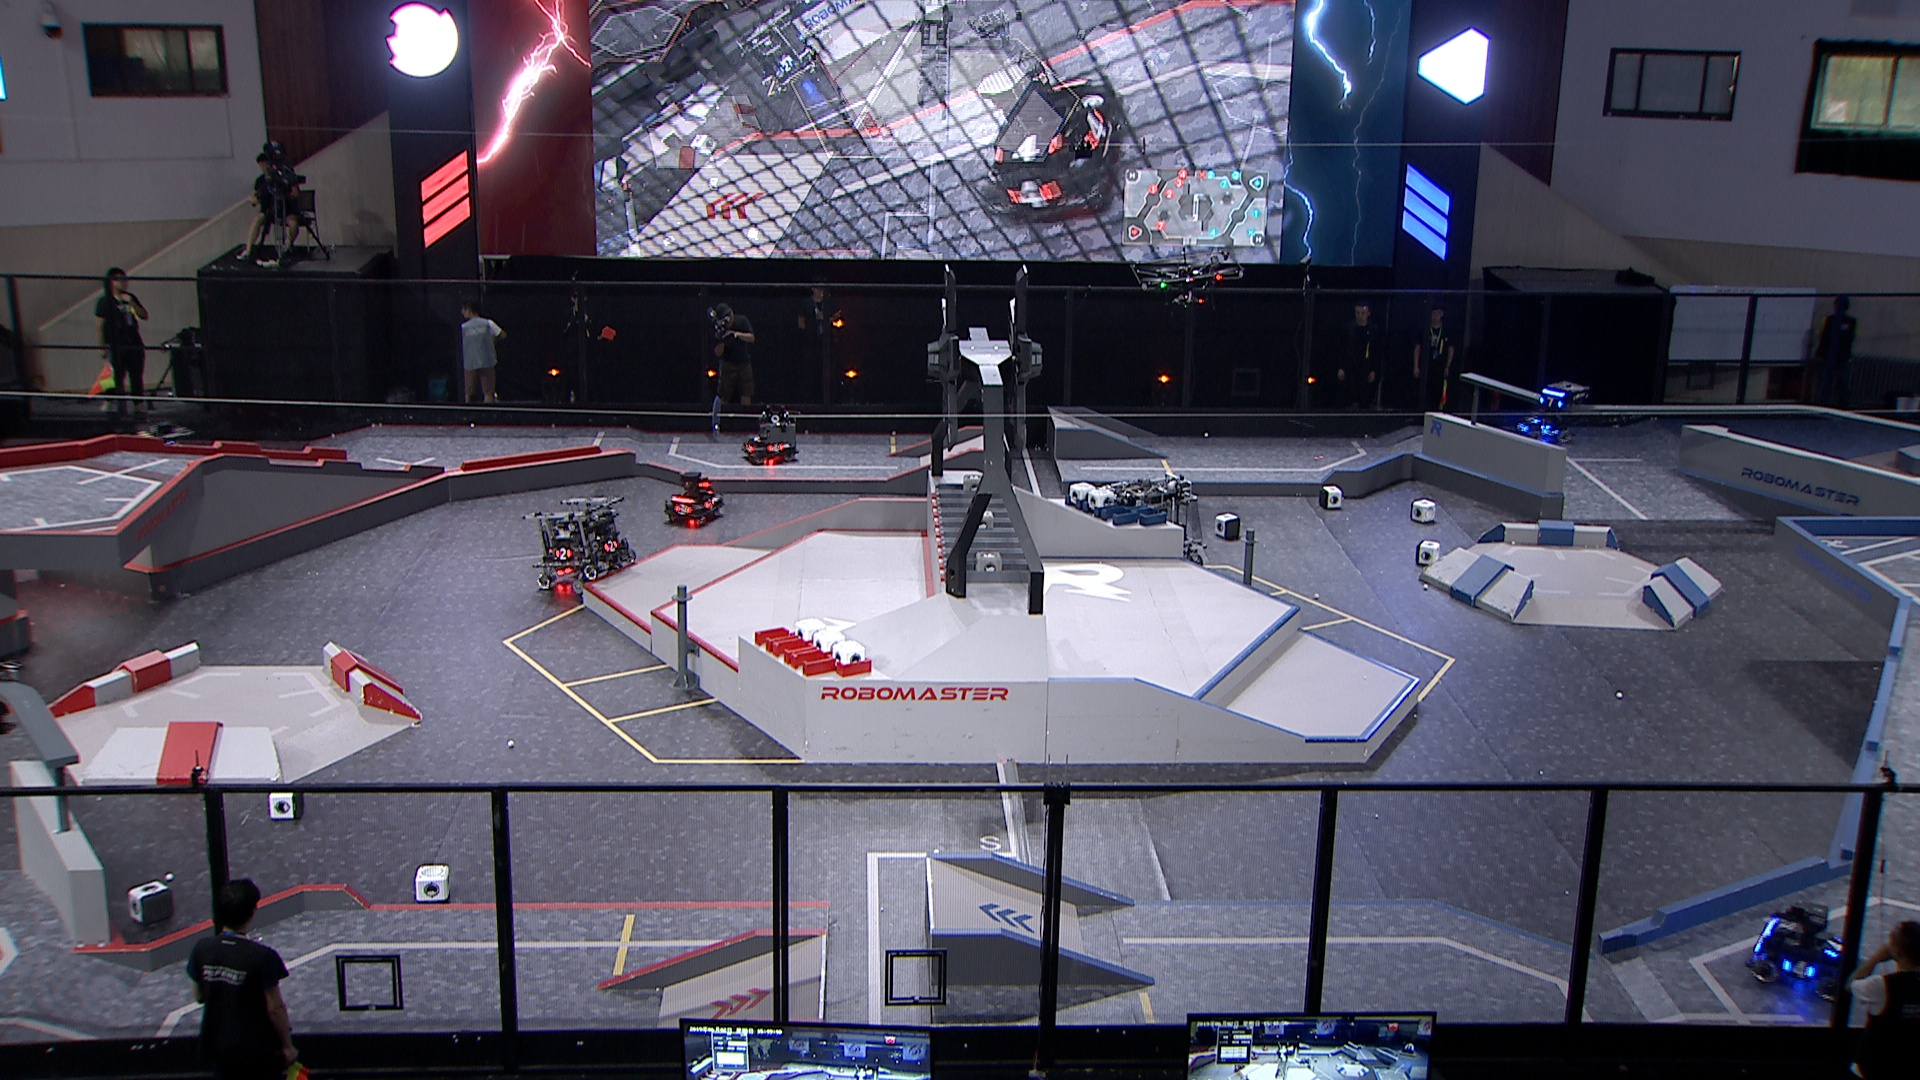armor: (1780, 956, 1818, 982), (1822, 931, 1847, 960), (1538, 392, 1565, 410), (551, 546, 574, 564), (671, 500, 694, 518), (604, 537, 622, 553), (1516, 419, 1532, 436), (765, 442, 785, 455), (702, 495, 717, 510), (742, 440, 756, 454)
car: (1091, 471, 1211, 579), (1742, 901, 1866, 1004), (531, 491, 640, 595), (661, 469, 727, 529), (1513, 396, 1575, 450), (738, 417, 804, 465)
ignore: (968, 69, 1127, 225), (741, 15, 866, 153), (1400, 1039, 1416, 1055)
watcher: (1531, 376, 1596, 436)
